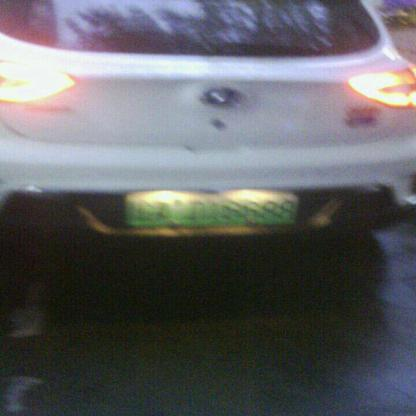lp: (128, 193, 296, 225)
